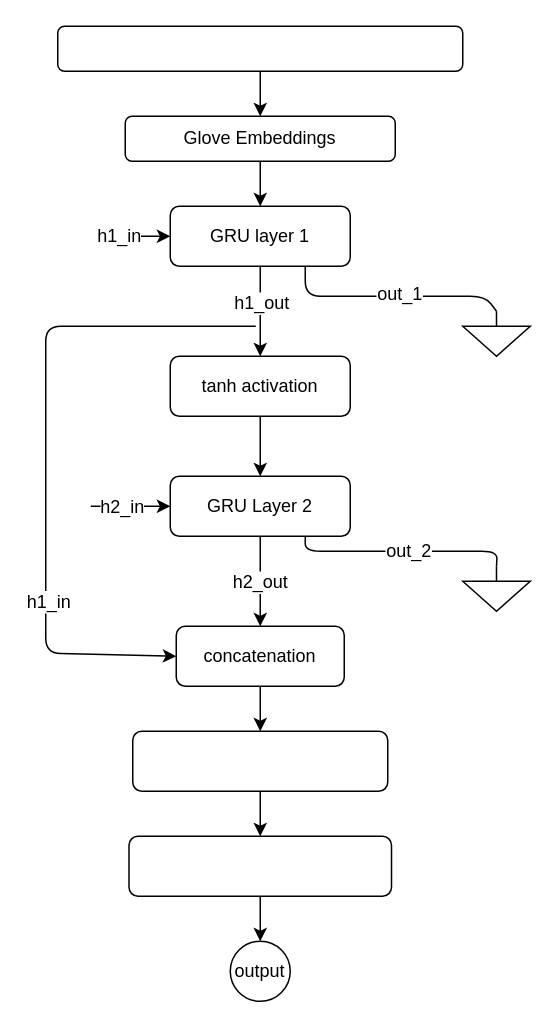
The diagram is 557 pixels wide and 1028 high, and some of its shapes have lost their labels. The centre of each missing label's shape, as x and y in pixels:
Fully Connected Layer: the point at 259,760
Input X: one movie review sentence: the point at 259,48
Sigmoid with BCE Loss: the point at 260,865
